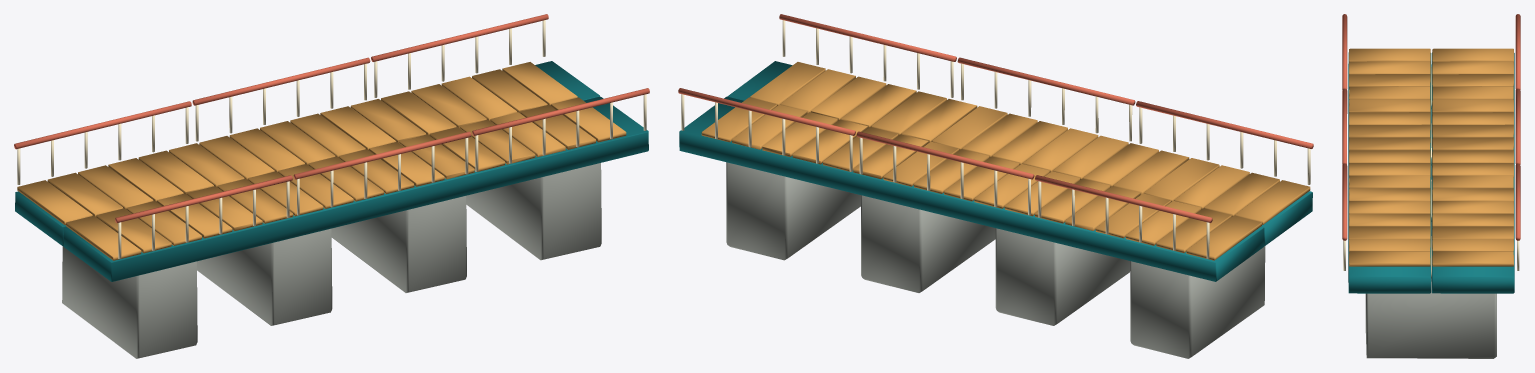
File: project_2-low.glb
The picture shows the model from 3 angles, left to right: view 1: azimuth 30°, elevation 25°; view 2: azimuth 150°, elevation 25°; view 3: azimuth 270°, elevation 25°; orthographic projection. The views are drawn at different scales.
Visible parts, largest first — view 1: deck plank, deck plank.017, deck beam.001, bridge pier, bridge pier.003, bridge pier.002, bridge pier.001, handrail.014, handrail.018, handrail.016, deck beam, railing.024 (+2 smaller); view 2: deck plank.017, deck plank, deck beam, bridge pier, bridge pier.003, bridge pier.001, bridge pier.002, handrail.014, handrail.016, handrail.018, deck beam.001, railing.024 (+2 smaller); view 3: deck plank, deck plank.017, bridge pier.003, deck beam, deck beam.001, handrail.018, handrail.014, handrail.016, railing.024.
Part boxes in pixels (<box>): deck plank: <box>17,62,577,224</box>; deck plank.017: <box>66,97,626,260</box>; deck beam.001: <box>63,96,648,281</box>; bridge pier: <box>62,246,197,358</box>; bridge pier.003: <box>466,163,601,260</box>; bridge pier.002: <box>331,196,466,292</box>; bridge pier.001: <box>197,228,332,325</box>; handrail.014: <box>14,101,292,222</box>; handrail.018: <box>371,14,649,135</box>; handrail.016: <box>192,57,471,179</box>; deck beam: <box>15,61,599,246</box>; railing.024: <box>374,20,646,171</box>; deck plank.017: <box>750,62,1310,224</box>; deck plank: <box>701,97,1261,260</box>; deck beam: <box>679,96,1264,281</box>; bridge pier: <box>1130,246,1265,358</box>; bridge pier.003: <box>726,162,860,260</box>; bridge pier.001: <box>995,228,1130,325</box>; bridge pier.002: <box>861,195,995,292</box>; handrail.014: <box>1035,101,1313,222</box>; handrail.016: <box>856,57,1135,179</box>; handrail.018: <box>678,14,956,135</box>; deck beam.001: <box>727,61,1312,246</box>; railing.024: <box>681,20,953,171</box>; deck plank: <box>1432,48,1513,266</box>; deck plank.017: <box>1349,48,1430,266</box>; bridge pier.003: <box>1365,279,1496,358</box>; deck beam: <box>1431,52,1514,293</box>; deck beam.001: <box>1348,52,1431,293</box>; handrail.018: <box>1342,163,1520,240</box>; handrail.014: <box>1342,14,1520,89</box>; handrail.016: <box>1342,88,1520,164</box>; railing.024: <box>1343,240,1519,270</box>.
Size of the model in its own units: 15.98 by 4.55 by 5.35.
